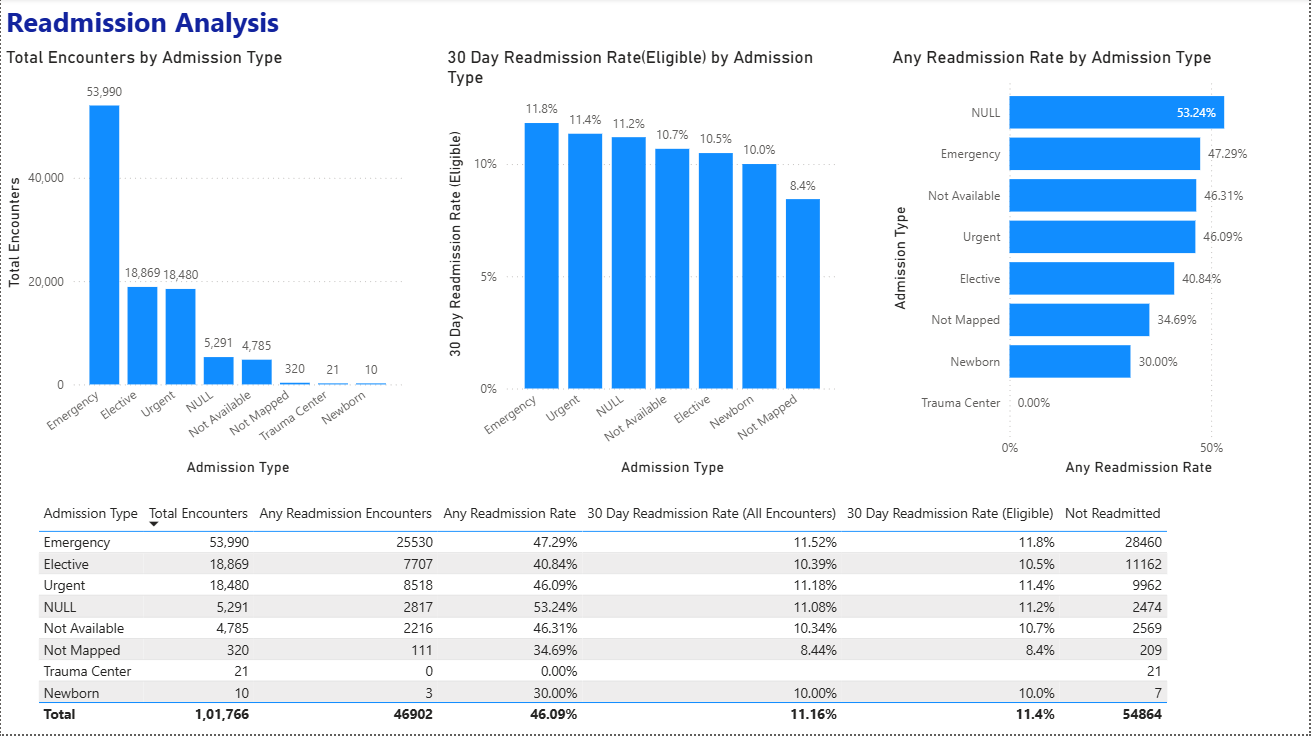

Layout of this report page (visuals, bound fields, positions):
{"tool":"powerbi","page":{"name":"Readmission Analysis","canvas":[1280,720],"ordinal":2},"visuals":[{"type":"clusteredColumnChart","fields":{"Category":["diabetic_data.Admission Type"],"Y":["diabetic_data.Total Encounters"]},"box":[0,0,390.1,490],"z":0},{"type":"pieChart","title":"Readmission Rate by Admission Type","fields":{"Category":["diabetic_data.Admission Type"],"Y":["diabetic_data.Readmission Rate by Admission Type"]},"box":[846.2,0,390.1,490],"z":1000},{"type":"clusteredColumnChart","title":"30 Day Readmission Rate by Admission Type","fields":{"Category":["diabetic_data.Admission Type"],"Y":["diabetic_data.30 Day Readmission Rate by Admission Type"]},"box":[420.7,0,392.5,490.4],"z":2000},{"type":"tableEx","fields":{"Values":["diabetic_data.Admission Type","diabetic_data.Total Encounters","diabetic_data.Readmitted Encounters","diabetic_data.Readmission Rate by Admission Type","diabetic_data.30 Day Readmission Rate by Admission Type"]},"box":[204.2,490.4,1076.1,229.9],"z":3000}]}

Visuals, with their boxes in screenshot pixels (x1, y1, x2, y2), scaled from the page's 1280x720 canvas onto the 1312x737 screenshot:
clusteredColumnChart - diabetic_data.Admission Type x diabetic_data.Total Encounters: x1=0 y1=0 x2=400 y2=502
"Readmission Rate by Admission Type" pieChart: x1=867 y1=0 x2=1267 y2=502
"30 Day Readmission Rate by Admission Type" clusteredColumnChart: x1=431 y1=0 x2=834 y2=502
tableEx - diabetic_data.Admission Type x diabetic_data.Total Encounters: x1=209 y1=502 x2=1311 y2=736
